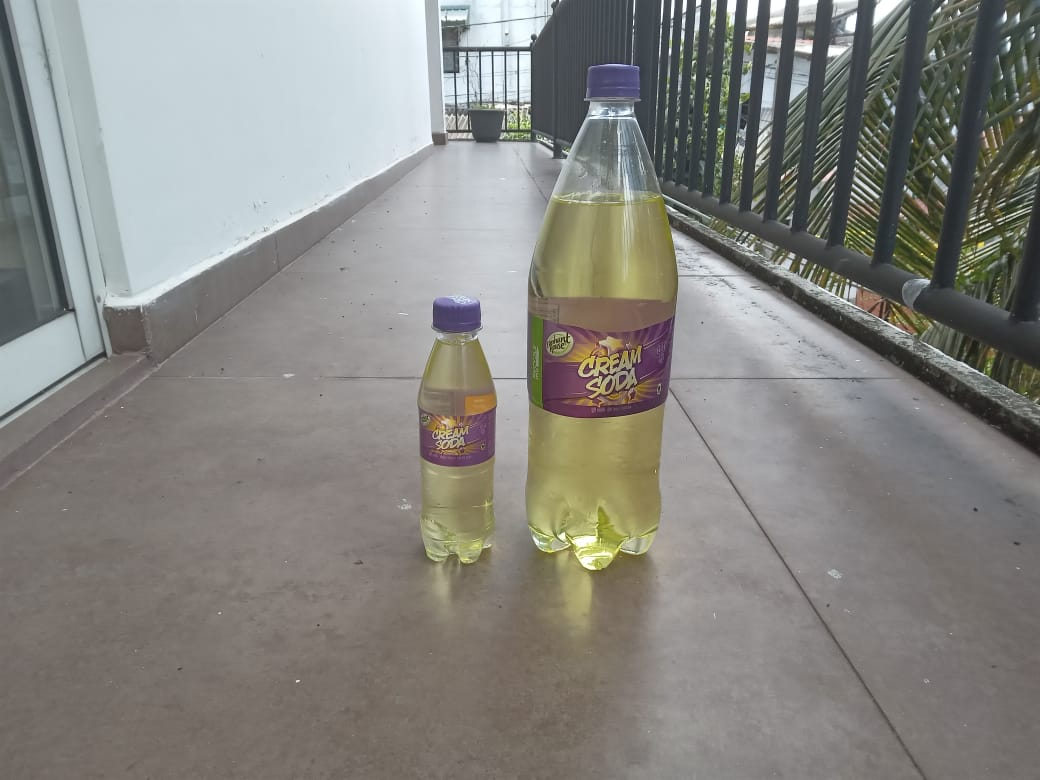L: (525, 64, 677, 572)
Xs: (413, 294, 499, 565)
